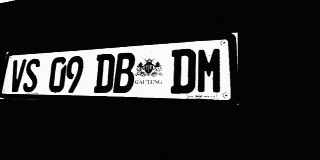0: (48, 57, 68, 93)
9: (64, 55, 84, 93)
B: (113, 52, 136, 93)
D: (170, 48, 196, 94), (93, 53, 115, 93)
M: (196, 46, 223, 94)
S: (22, 58, 41, 92)
V: (8, 59, 27, 92)
